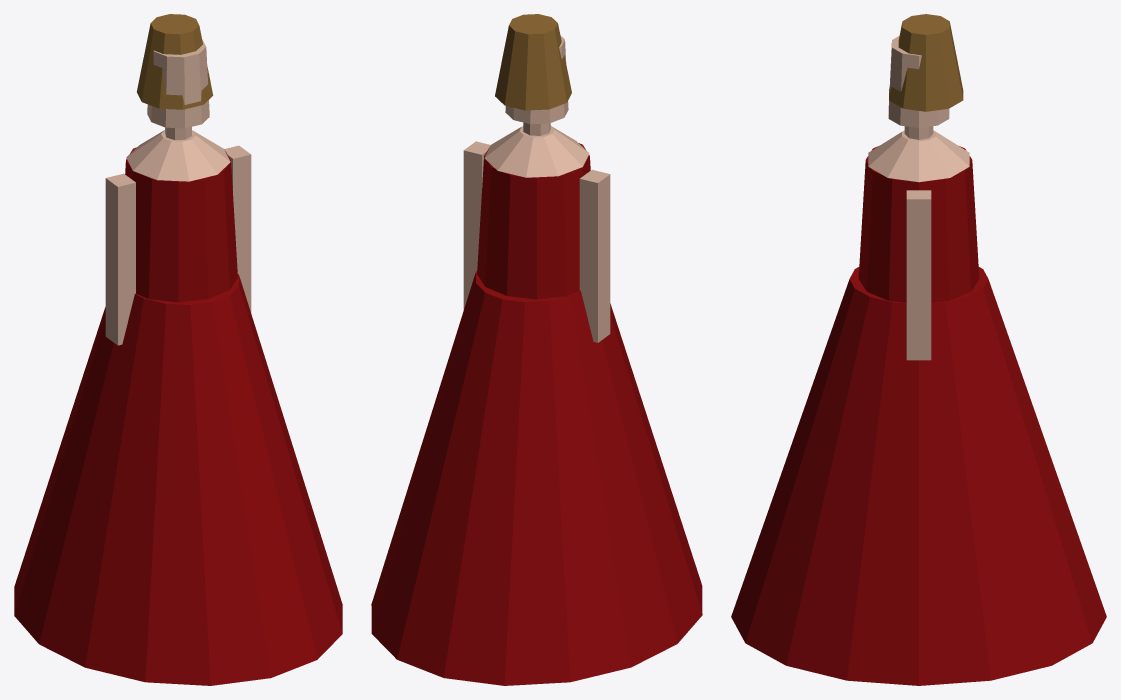
Rendered from eve.obj.
The picture shows the model from 3 angles, left to right: view 1: azimuth 30°, elevation 25°; view 2: azimuth 150°, elevation 25°; view 3: azimuth 270°, elevation 25°; orthographic projection.
Size of the model in its own units: 0.92 by 1.84 by 1.06.
